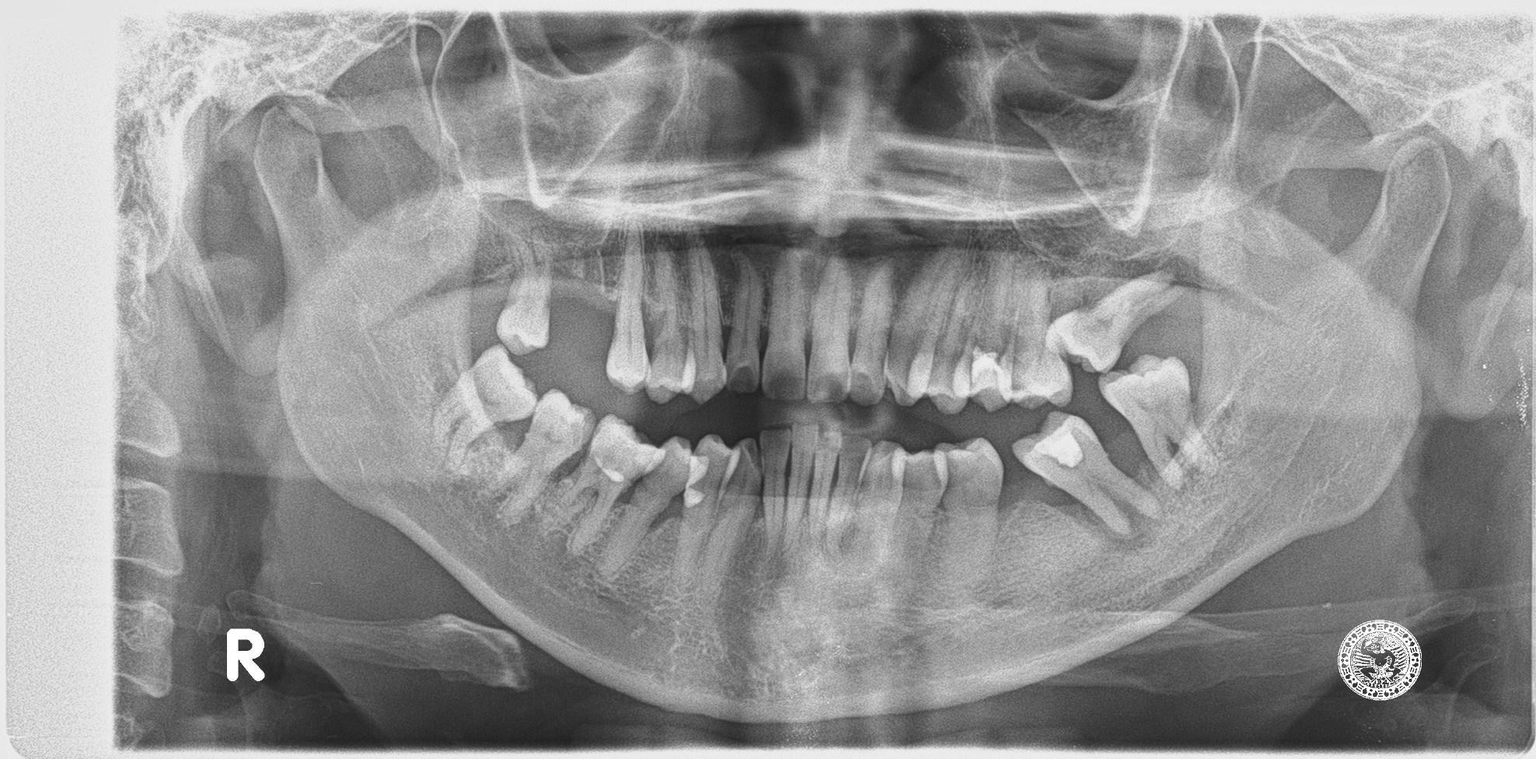Individual Tooth: (1014, 413, 1163, 537), (536, 416, 669, 554), (595, 437, 705, 582), (1099, 355, 1215, 488), (486, 391, 596, 526), (1046, 274, 1183, 372), (885, 251, 969, 403), (907, 250, 984, 413), (434, 345, 538, 461), (763, 249, 831, 400), (952, 251, 1015, 411), (698, 442, 759, 607), (998, 274, 1072, 407), (829, 442, 913, 558), (674, 436, 738, 588), (644, 247, 696, 402), (677, 244, 727, 404), (937, 438, 1003, 546), (805, 257, 854, 402), (847, 260, 895, 404), (496, 235, 550, 355), (608, 237, 649, 392), (891, 450, 948, 555), (725, 258, 766, 392), (800, 422, 843, 547), (782, 425, 825, 531), (829, 435, 871, 534), (759, 429, 791, 532)
